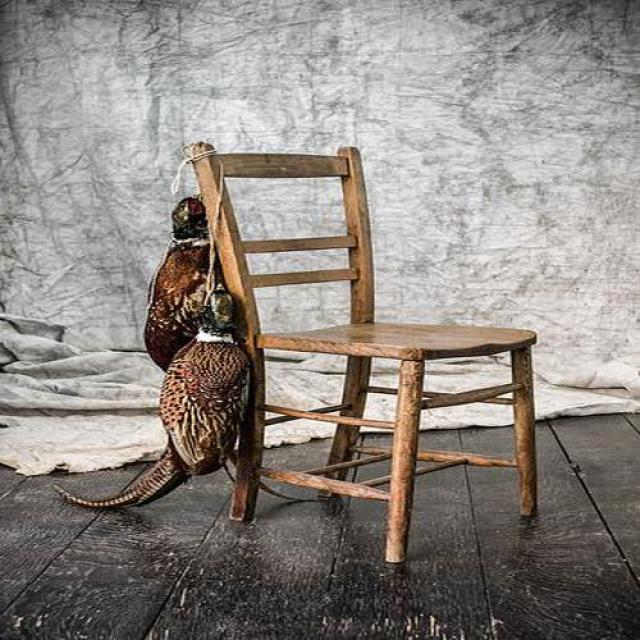chair: (189, 143, 538, 566)
